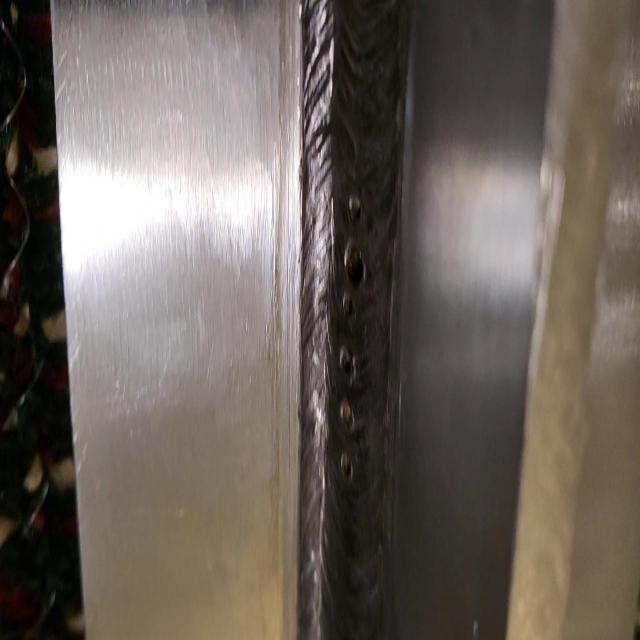Welding Line: (301, 3, 398, 640)
Workpiece: (63, 0, 640, 640)
porosity: (338, 193, 366, 482)
